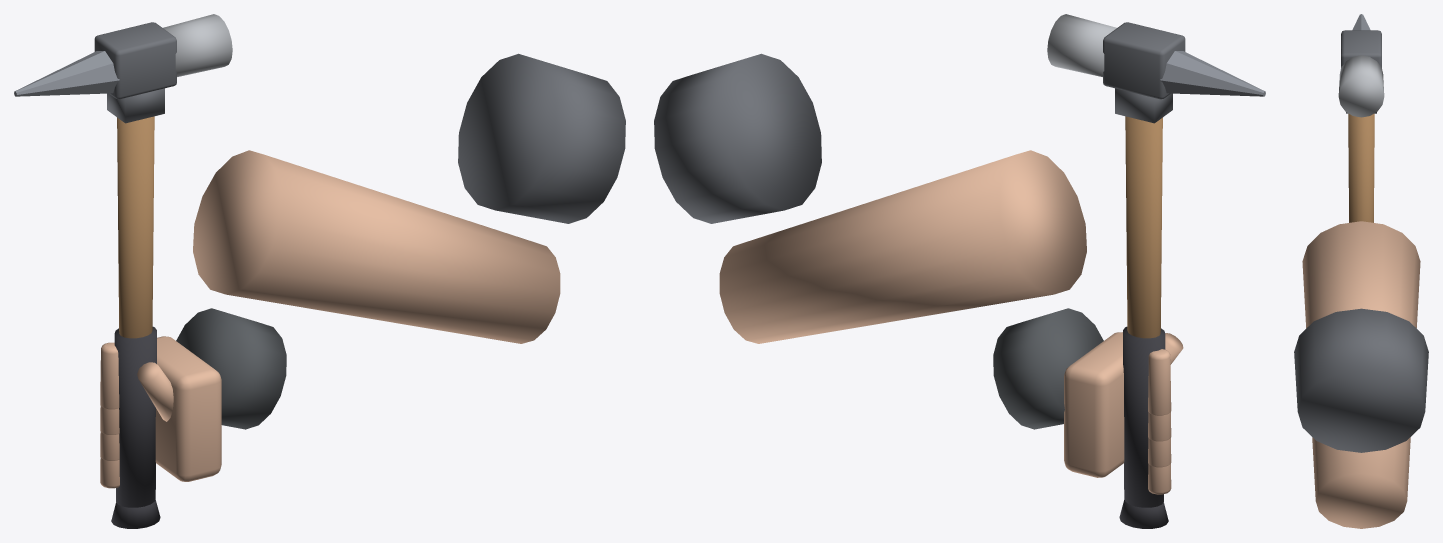
Rendered from hammer_hand.glb.
3 renders of one model, left to right at view 1: azimuth 30°, elevation 25°; view 2: azimuth 150°, elevation 25°; view 3: azimuth 270°, elevation 25°, orthographic. The views are drawn at different scales.
Parts seen in each view (by area): view 1: Arm_Forearm_Mesh, Arm_Sleeve_Mesh, Arm_Wristband_Mesh, Hammer_Handle, Hand_Palm, Hammer_Grip, Hammer_HeadCenter, Hammer_FlatHead, Hammer_SharpHead, Hammer_Collar, Hand_Thumb, Hand_Finger_0 (+1 smaller); view 2: Arm_Forearm_Mesh, Arm_Sleeve_Mesh, Arm_Wristband_Mesh, Hammer_Handle, Hand_Palm, Hammer_Grip, Hammer_HeadCenter, Hammer_FlatHead, Hammer_SharpHead, Hand_Finger_0, Hammer_Collar, Hammer_Pommel; view 3: Arm_Forearm_Mesh, Arm_Sleeve_Mesh, Hammer_Handle, Hammer_FlatHead, Hammer_HeadCenter, Hammer_SharpHead.
Boxes of the visible parts, bbox=[...] form: Arm_Forearm_Mesh: bbox=[193, 150, 560, 343]; Arm_Sleeve_Mesh: bbox=[458, 53, 625, 223]; Arm_Wristband_Mesh: bbox=[176, 308, 286, 429]; Hammer_Handle: bbox=[117, 116, 154, 338]; Hand_Palm: bbox=[155, 336, 221, 481]; Hammer_Grip: bbox=[114, 326, 156, 507]; Hammer_HeadCenter: bbox=[94, 22, 176, 99]; Hammer_FlatHead: bbox=[163, 14, 232, 76]; Hammer_SharpHead: bbox=[14, 51, 119, 96]; Hammer_Collar: bbox=[107, 88, 164, 123]; Hand_Thumb: bbox=[137, 362, 173, 421]; Hand_Finger_0: bbox=[100, 342, 119, 409]; Arm_Forearm_Mesh: bbox=[719, 150, 1086, 343]; Arm_Sleeve_Mesh: bbox=[654, 53, 821, 223]; Arm_Wristband_Mesh: bbox=[993, 308, 1103, 429]; Hammer_Handle: bbox=[1125, 116, 1162, 338]; Hand_Palm: bbox=[1064, 332, 1124, 477]; Hammer_Grip: bbox=[1123, 326, 1165, 507]; Hammer_HeadCenter: bbox=[1103, 22, 1185, 99]; Hammer_FlatHead: bbox=[1047, 14, 1116, 76]; Hammer_SharpHead: bbox=[1160, 51, 1265, 96]; Hand_Finger_0: bbox=[1148, 349, 1171, 415]; Hammer_Collar: bbox=[1115, 88, 1172, 123]; Hammer_Pommel: bbox=[1119, 499, 1168, 528]; Arm_Forearm_Mesh: bbox=[1302, 221, 1420, 528]; Arm_Sleeve_Mesh: bbox=[1294, 308, 1428, 452]; Hammer_Handle: bbox=[1348, 113, 1374, 222]; Hammer_FlatHead: bbox=[1338, 55, 1384, 117]; Hammer_HeadCenter: bbox=[1341, 30, 1381, 67]; Hammer_SharpHead: bbox=[1352, 14, 1370, 30].
Bounding box in the file's own units: 0.4794 × 0.374 × 0.112.
